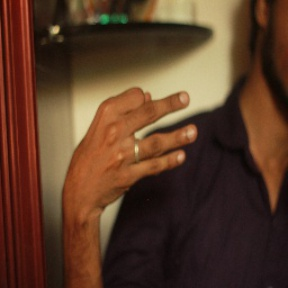K: (65, 85, 201, 191)
